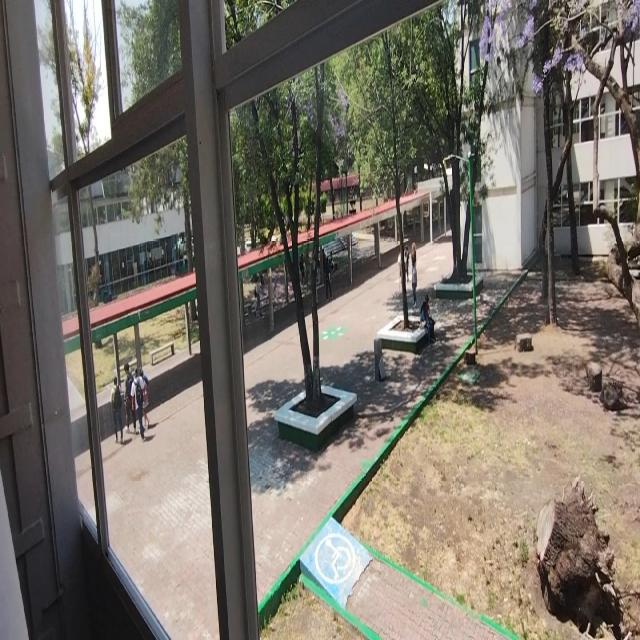adult: (131, 368, 145, 440), (111, 376, 123, 447), (124, 362, 136, 433), (139, 365, 149, 430), (422, 293, 432, 345), (411, 244, 417, 302), (326, 261, 332, 302), (404, 244, 409, 282)
